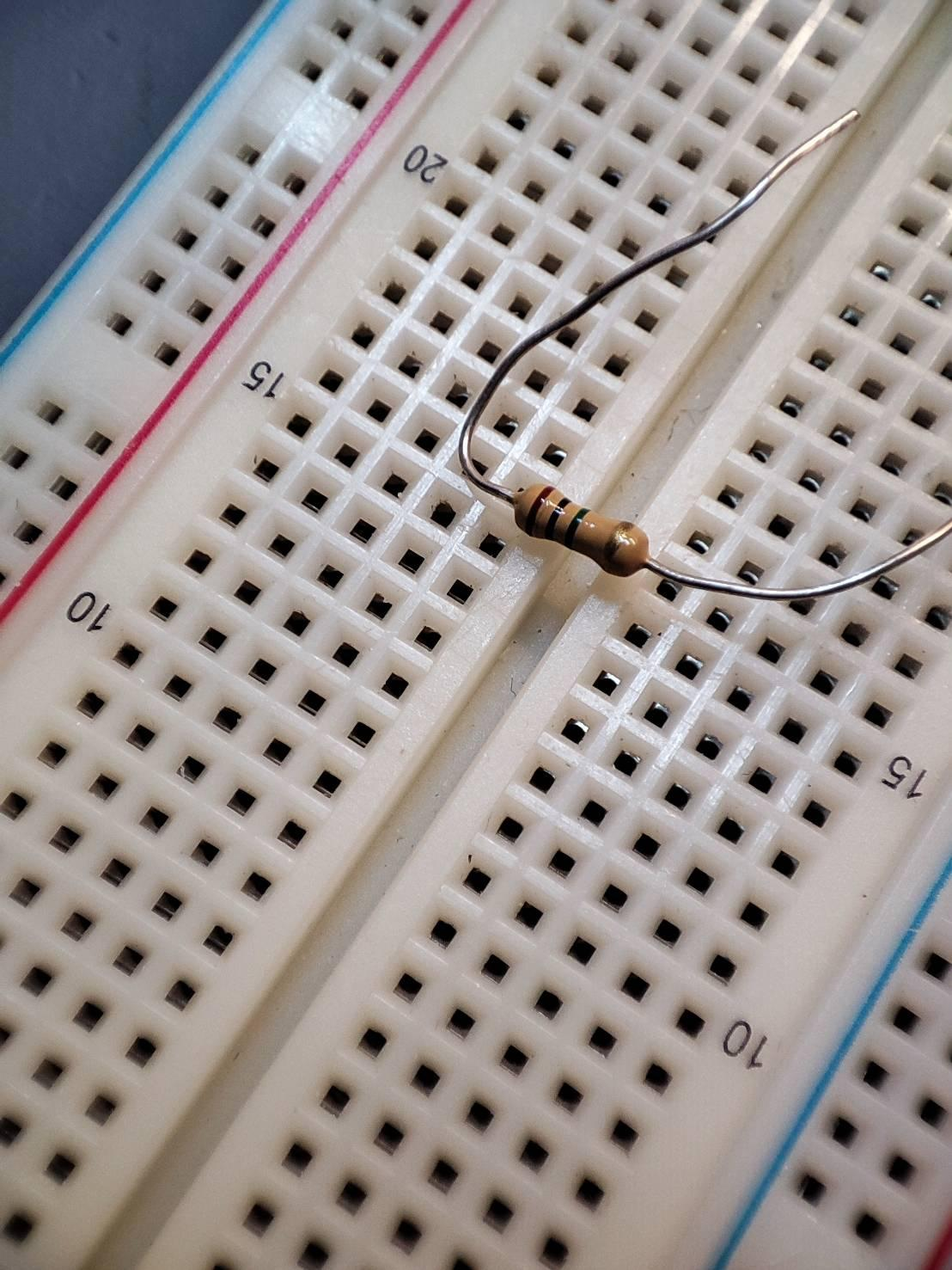resistor: (513, 473, 649, 582)
